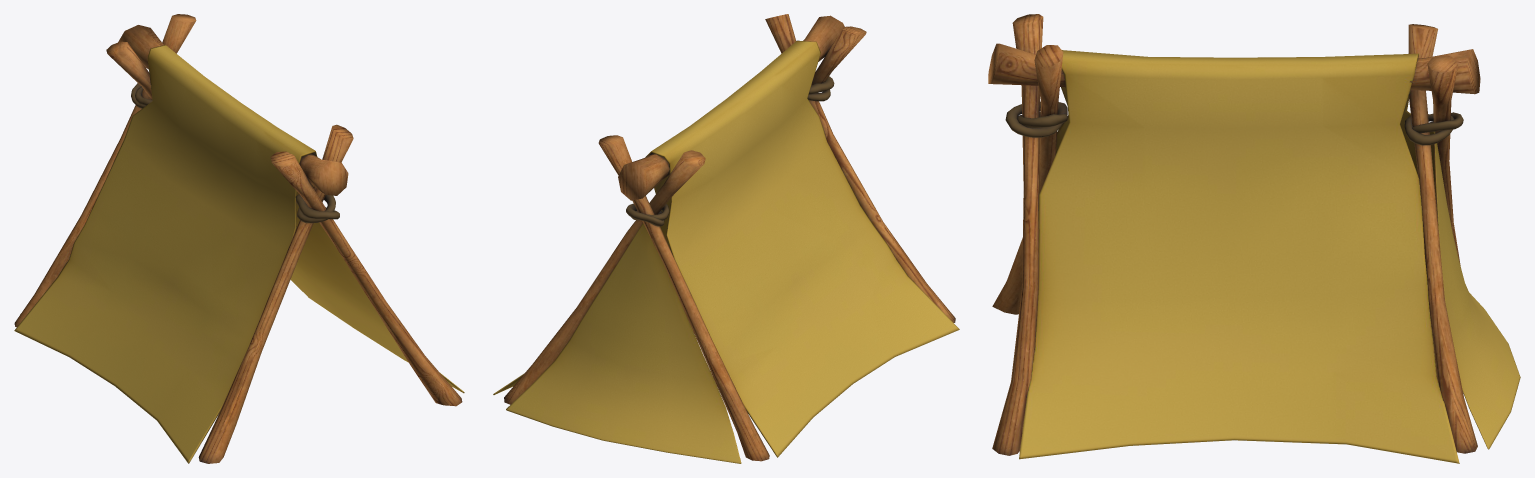
File: tent.fbx
The picture shows the model from 3 angles, left to right: view 1: azimuth 30°, elevation 25°; view 2: azimuth 150°, elevation 25°; view 3: azimuth 270°, elevation 25°; orthographic projection. The views are drawn at different scales.
Visible parts, largest first — view 1: tent_Mat_0; view 2: tent_Mat_0; view 3: tent_Mat_0.
Part boxes in pixels (bbox=[...]): tent_Mat_0: bbox=[14, 14, 464, 463]; tent_Mat_0: bbox=[493, 14, 959, 463]; tent_Mat_0: bbox=[988, 14, 1520, 463].
Bounding box in the file's own units: 1117 × 1084 × 1502.
Materials: 1 (1 with a texture image).
